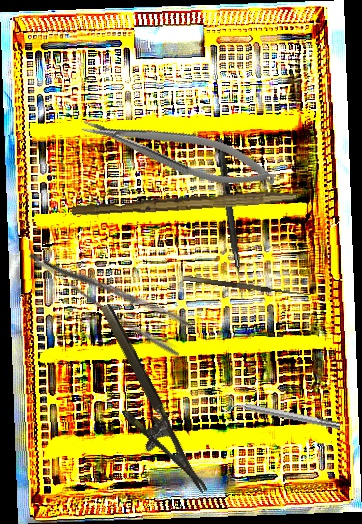Dressing Forceps: (24, 225, 198, 361)
Fixation Ring: (221, 392, 342, 437)
Hook Surgical: (214, 138, 248, 300), (183, 268, 311, 299)
Needle Holder: (75, 302, 208, 509), (78, 99, 281, 202)
Scalpel Handle: (71, 185, 298, 221)
